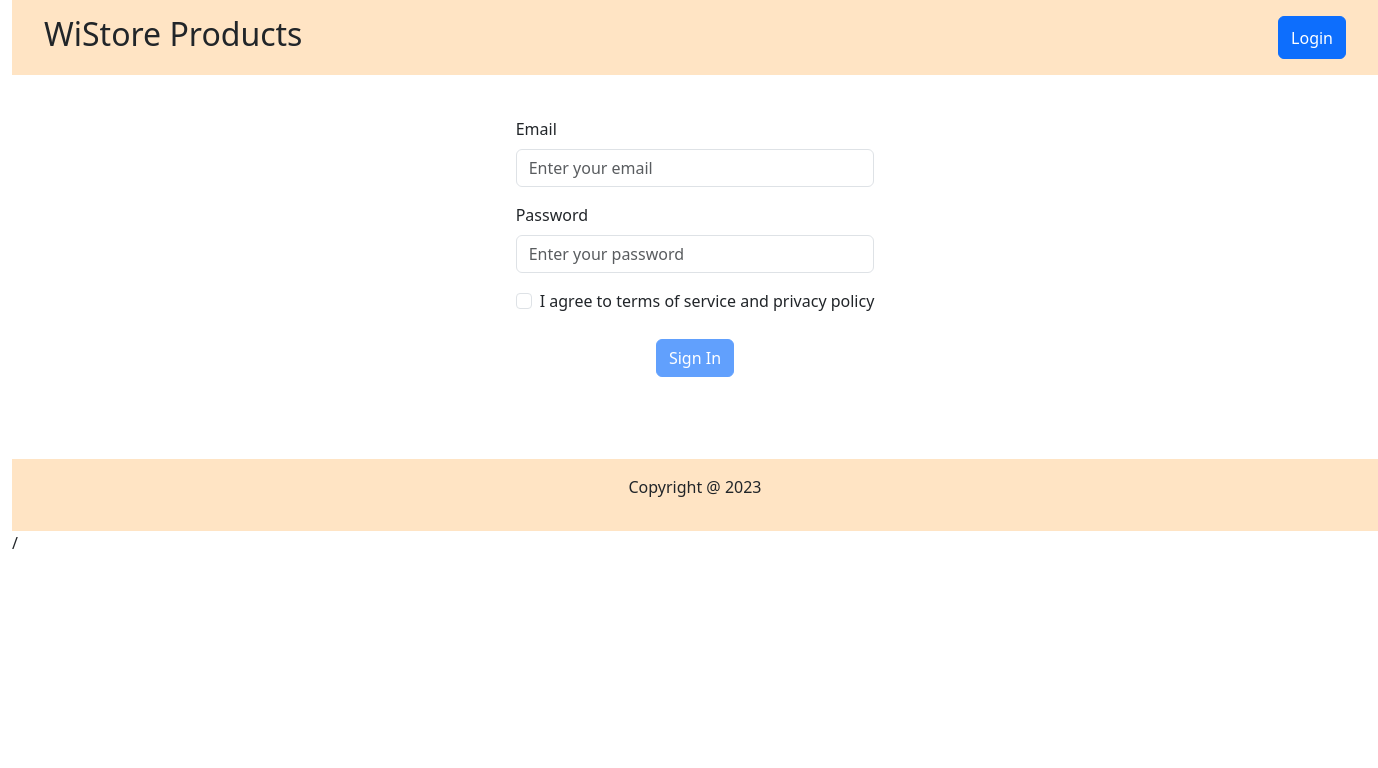
Scenario: Input Hataları › Hatalı email girince hata mesajı çıkıyor, kontrol edip butonu disabled yapıyor
Type "zsdsdsdfsd" into the field with test id "email" at (696, 168), box [516, 149, 875, 187]
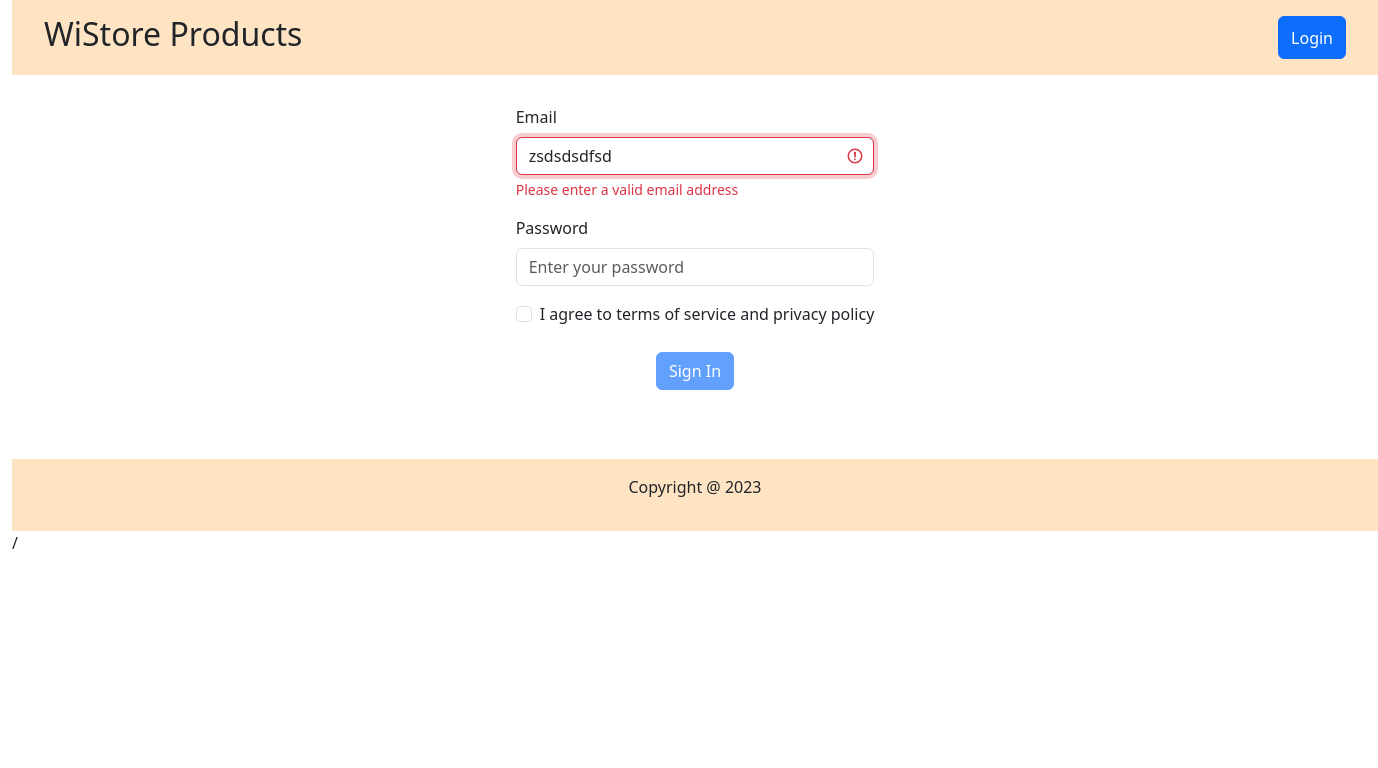
Check: the button with test id "button" is disabled, box [656, 352, 734, 390]
Check: the number of elements with test id "email-error" is 1, box [516, 180, 739, 199]
Check: the text "Please enter a valid email address" is shown, box [516, 180, 738, 199]
